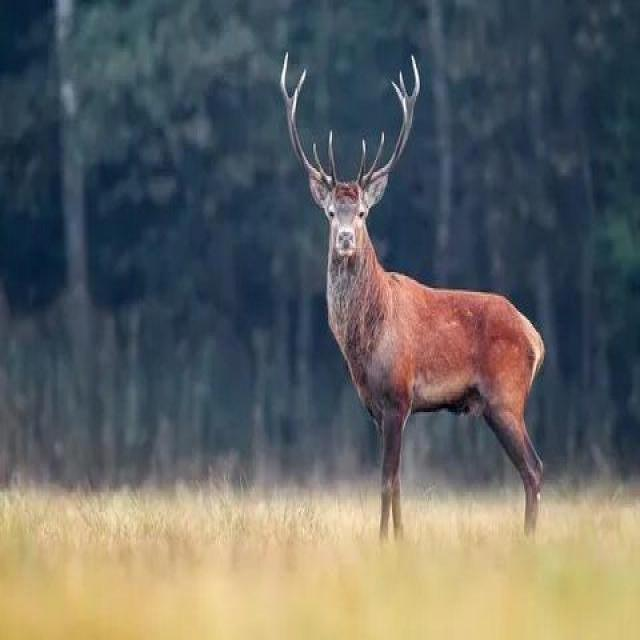deer: (228, 69, 594, 536)
